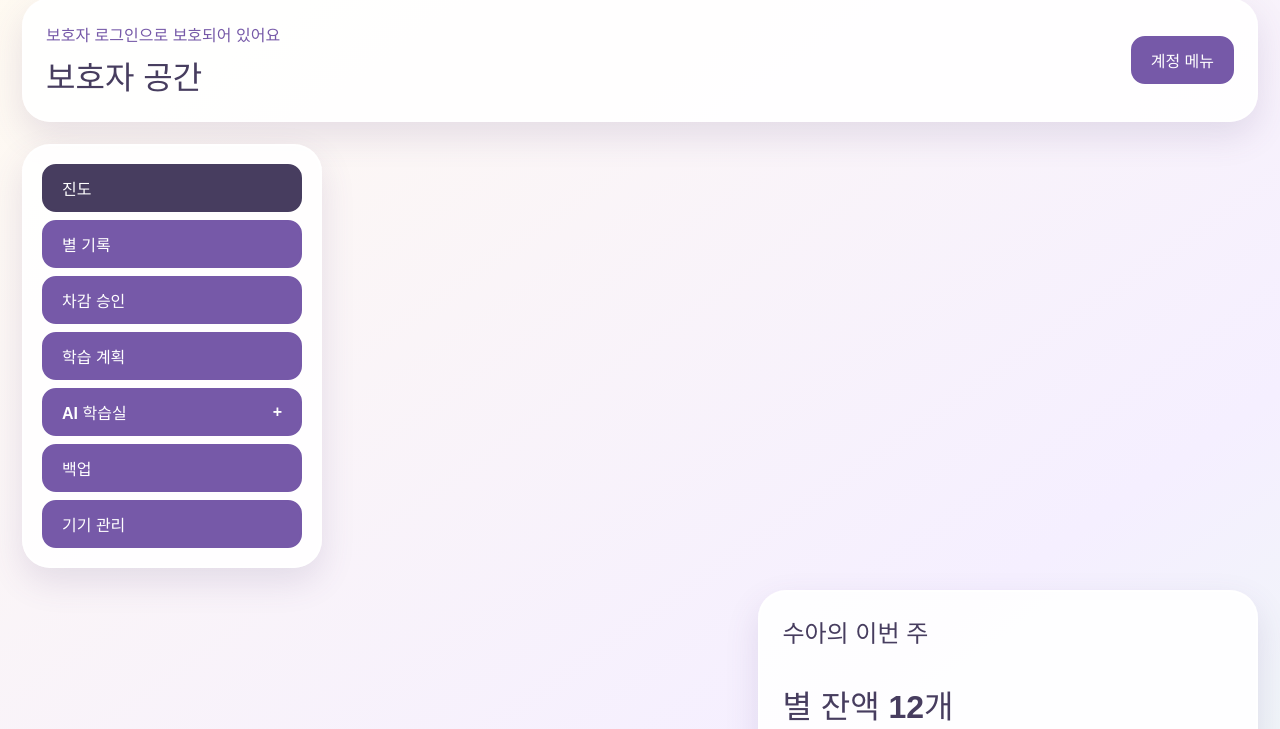
Test case: GuardianDashboard › replaces a pending initial settings read after studio navigation
This screenshot has width=1280, height=729.
What coordinates should you click on to do the following:
click the button "AI 학습실 +"
I would click on:
 (94, 414)
Its box is [42,388,302,436].
(page scrolled)
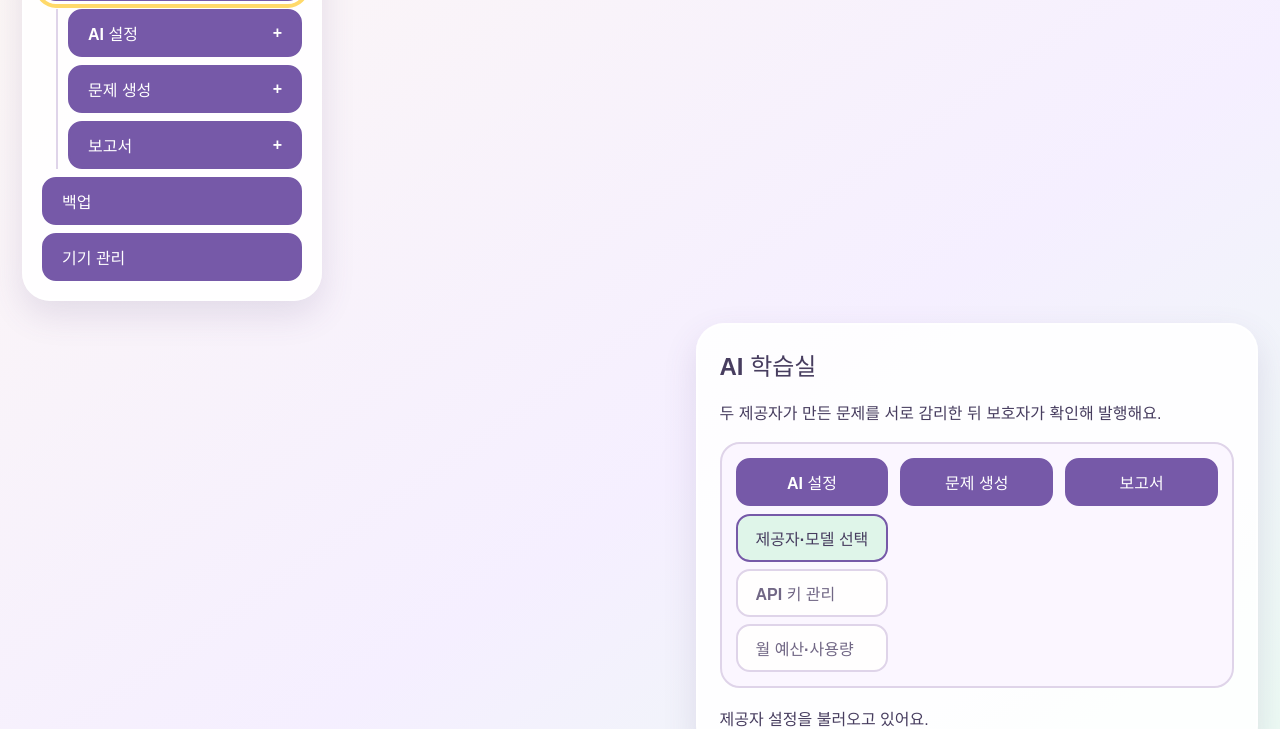
What coordinates should you click on to do the following:
click the list item "월 예산·사용량"
I would click on:
 (812, 648)
Its box is [736,624,888,672].
(page scrolled)
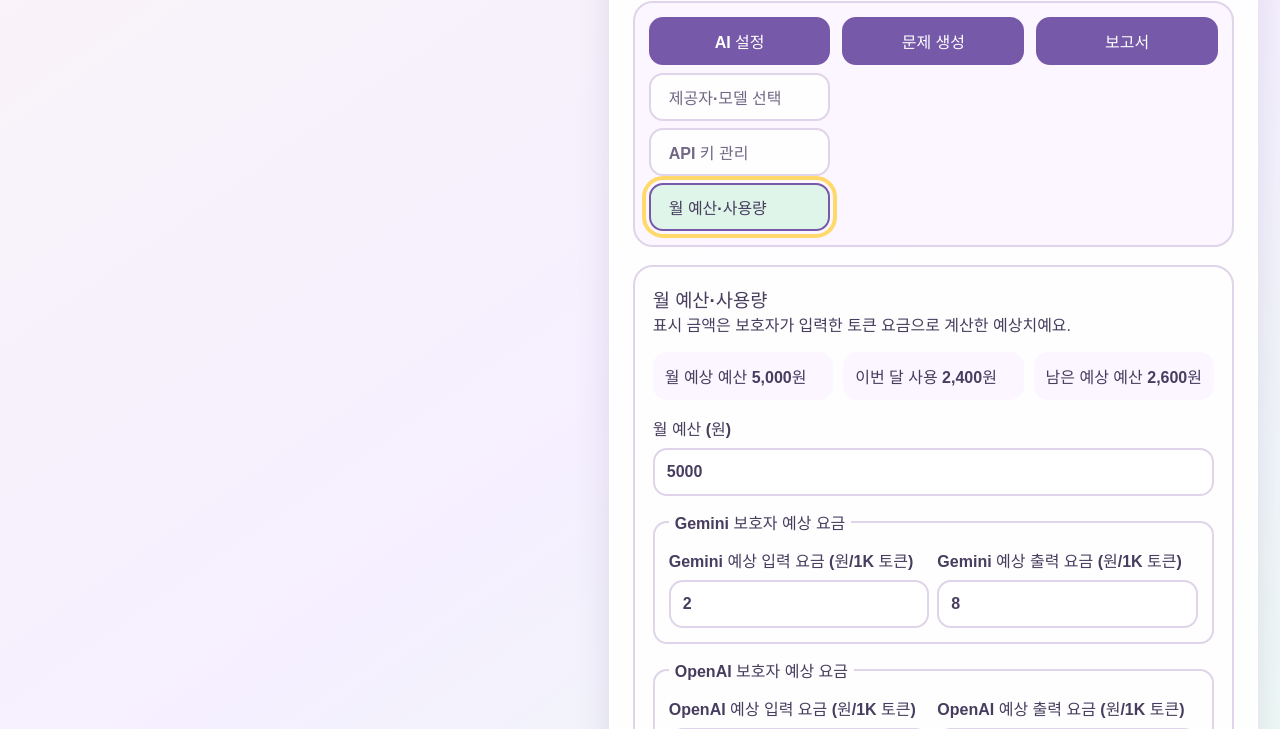
Now the text "제공자 설정을 불러오고 있어요." is gone
Now the text "이번 달 사용 2,400원" is shown, box [843,352,1024,400]
